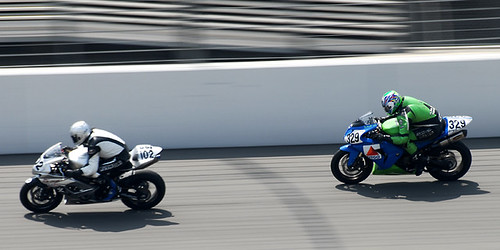helmet: (68, 115, 88, 141), (380, 89, 401, 111)
